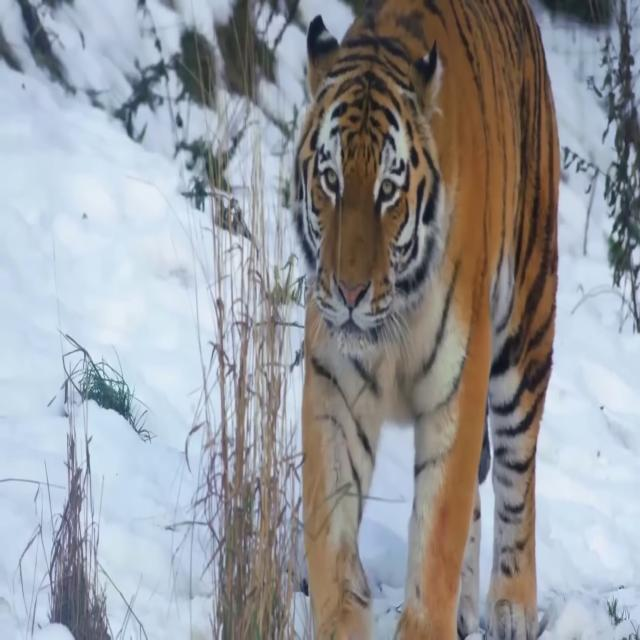tiger: (291, 0, 562, 640)
